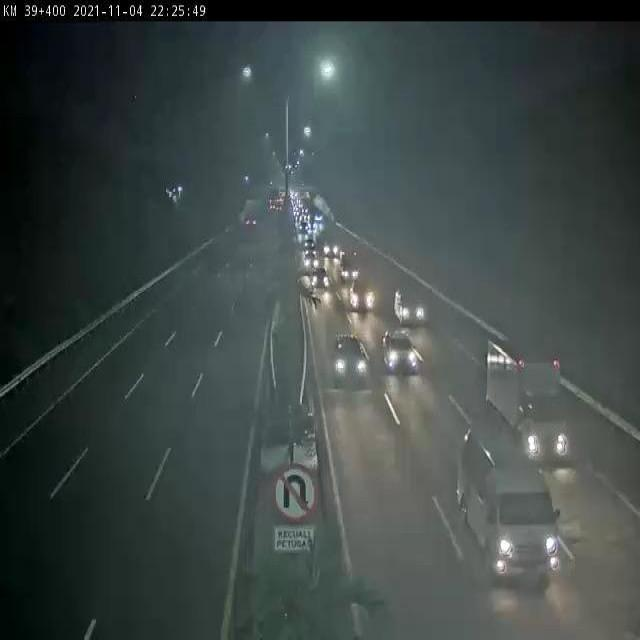car: (448, 409, 562, 583), (329, 333, 369, 396), (381, 326, 418, 386), (389, 281, 437, 327), (345, 277, 377, 323), (303, 264, 333, 293), (336, 256, 363, 281)
truck-s-: (479, 331, 581, 468)
